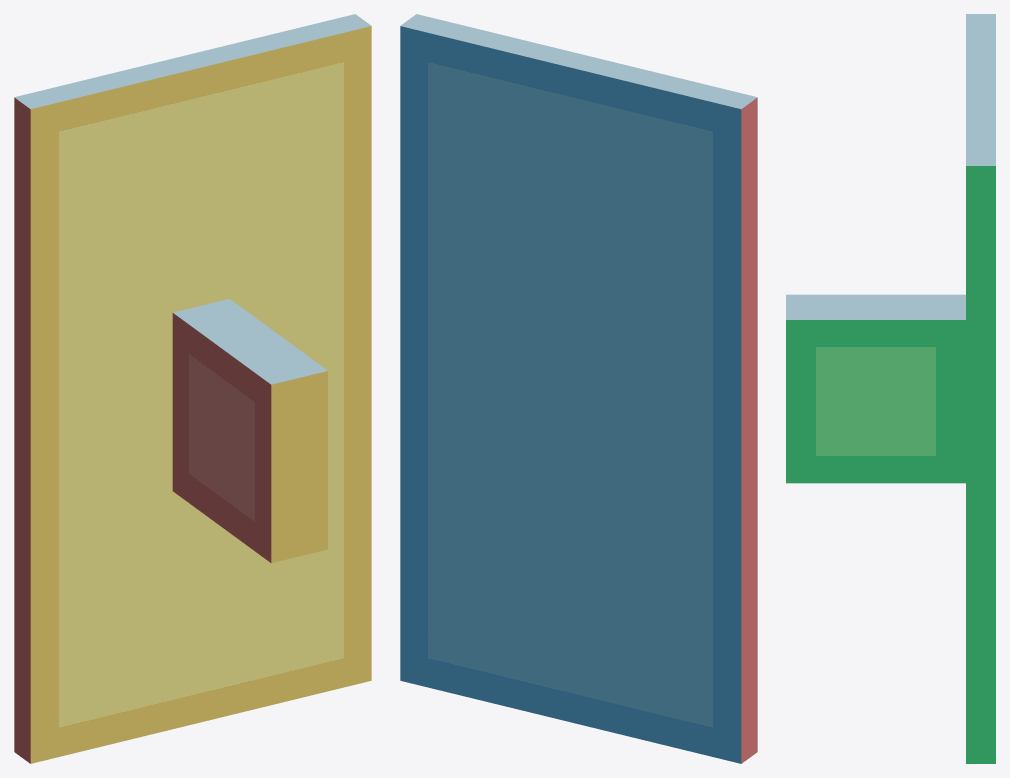
Rendered from shield_model.gltf.
3 renders of one model, left to right at view 1: azimuth 30°, elevation 25°; view 2: azimuth 150°, elevation 25°; view 3: azimuth 270°, elevation 25°, orthographic. The views are drawn at different scales.
Visible parts, largest first — view 1: shield (×2); view 2: shield; view 3: shield (×2).
Part boxes in pixels (<box>): shield (×2): <box>14,14,371,763</box>; shield: <box>400,14,757,763</box>; shield (×2): <box>786,14,995,763</box>.
Bounding box in the file's own units: 0.75 × 1.38 × 0.4375.
Materials: 1 (1 with a texture image).
